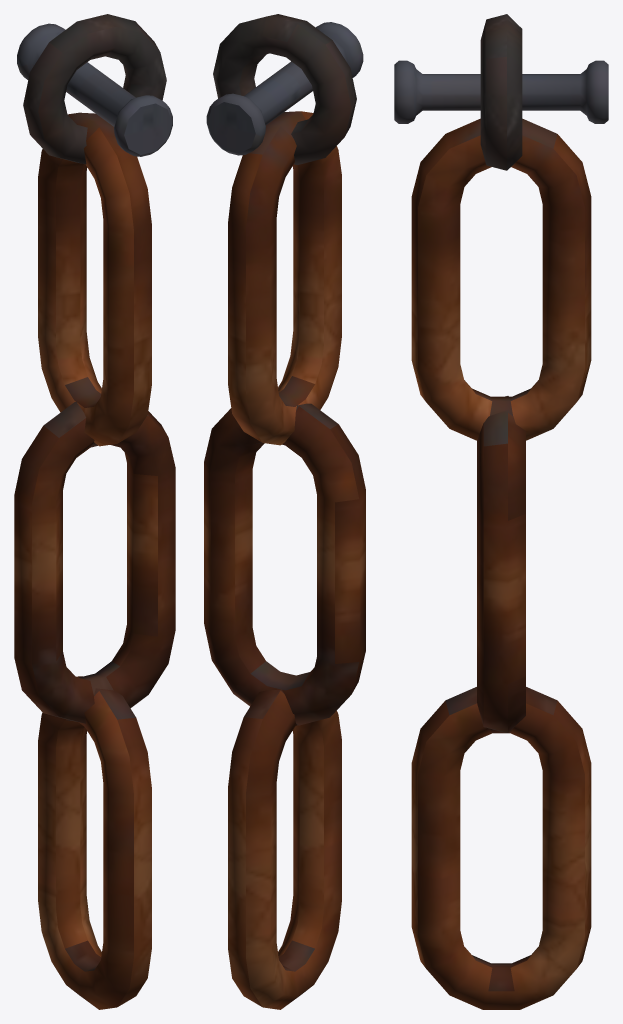
The model's file is Chain_Segment.glb.
The picture shows the model from 3 angles, left to right: view 1: azimuth 30°, elevation 25°; view 2: azimuth 150°, elevation 25°; view 3: azimuth 270°, elevation 25°; orthographic projection.
Parts seen in each view (by area): view 1: Chain_Segment; view 2: Chain_Segment; view 3: Chain_Segment.
Boxes of the visible parts, x1,y1,x2,y2 form: Chain_Segment: [14, 14, 175, 1009]; Chain_Segment: [204, 14, 365, 1009]; Chain_Segment: [394, 14, 608, 1009].
Bounding box in the file's own units: 0.0604 × 0.3657 × 0.072.
Materials: 2 (2 with a texture image).
